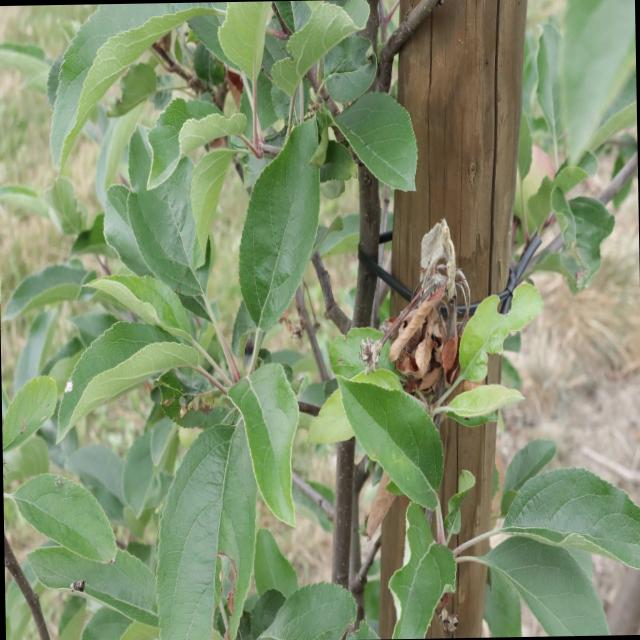-FireBlight-: (381, 258, 459, 388)
